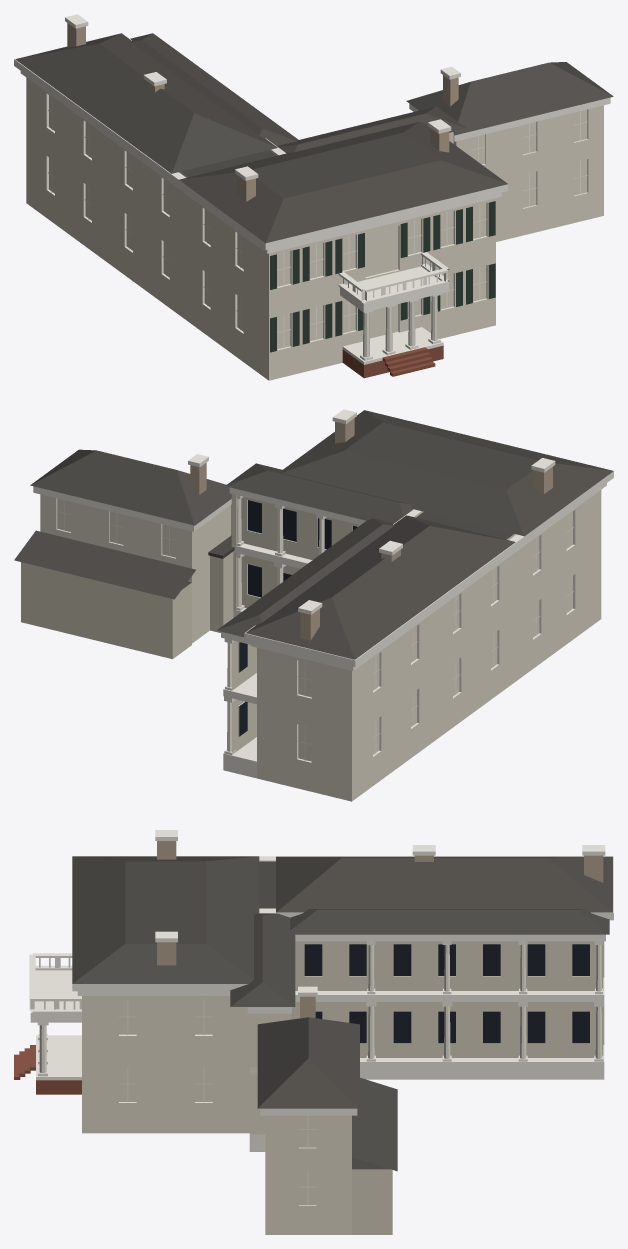
File: fowler-house-1961.glb
The picture shows the model from 3 angles, top to bottom: view 1: azimuth 30°, elevation 25°; view 2: azimuth 150°, elevation 25°; view 3: azimuth 270°, elevation 25°; orthographic projection. The views are drawn at different scales.
Visible parts, largest first — view 1: fowler_wall, fowler_roof, fowler_trim, fowler_shutter, fowler_base, fowler_sash, fowler_brick2, fowler_wood; view 2: fowler_roof, fowler_wall, fowler_board, fowler_trim, fowler_glass, fowler_brick2, fowler_wood, fowler_sash; view 3: fowler_roof, fowler_wall, fowler_board, fowler_trim, fowler_glass, fowler_wood, fowler_brick2, fowler_base, fowler_sash.
Part boxes in pixels (box(x1,y1,x2,y2)): fowler_wall: box(26, 77, 603, 380); fowler_roof: box(15, 33, 613, 243); fowler_trim: box(14, 14, 610, 364); fowler_shutter: box(270, 201, 495, 352); fowler_base: box(342, 345, 443, 378); fowler_sash: box(48, 97, 587, 348); fowler_brick2: box(67, 23, 458, 201); fowler_wood: box(363, 296, 437, 357); fowler_roof: box(14, 410, 613, 659); fowler_wall: box(40, 490, 601, 801); fowler_board: box(21, 497, 357, 752); fowler_trim: box(33, 409, 613, 778); fowler_glass: box(239, 500, 357, 736); fowler_brick2: box(190, 418, 552, 640); fowler_wood: box(227, 499, 324, 751); fowler_sash: box(57, 500, 573, 760); fowler_roof: box(72, 856, 612, 1171); fowler_wall: box(82, 860, 604, 1234); fowler_board: box(291, 941, 603, 1234); fowler_trim: box(29, 830, 613, 1205); fowler_glass: box(304, 944, 589, 1043); fowler_wood: box(39, 945, 602, 1072); fowler_brick2: box(157, 841, 603, 1018); fowler_base: box(14, 1045, 81, 1094); fowler_sash: box(119, 999, 316, 1205).
Size of the model in its own units: 30.6 by 11.85 by 34.
